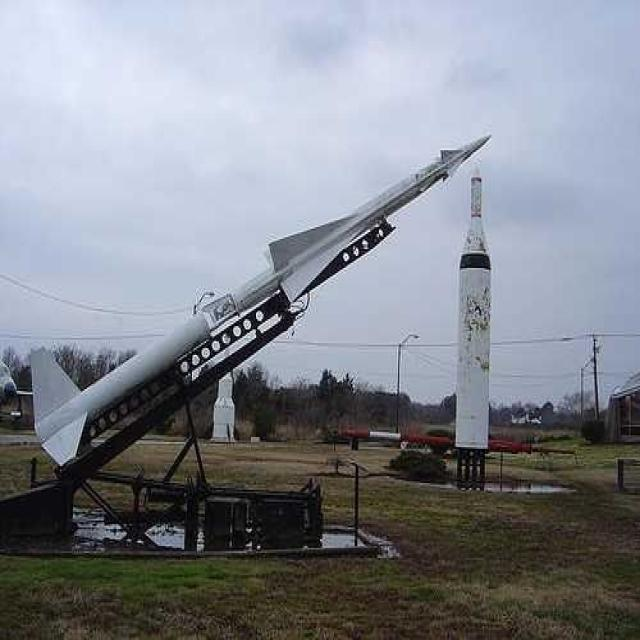missile: (31, 134, 490, 467), (456, 161, 492, 497)
